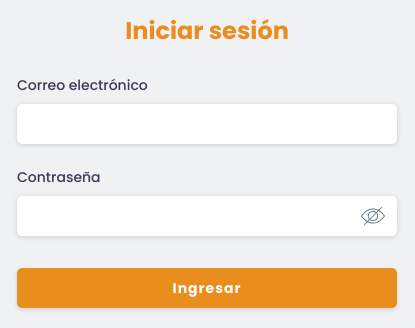
it: Test de formulario de Iniciar Sesion › Ingreso contraseña no valida
The image size is (415, 328).
Type "emailfake@mail.com" into the field named "email" at [207, 124], box left=17, top=104, right=397, bottom=144
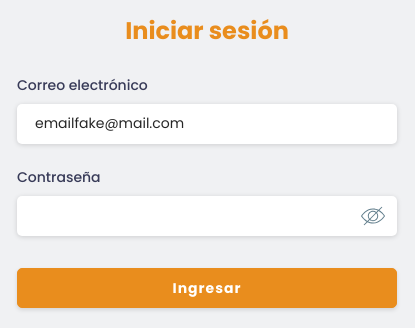
Type "1" into the password field named "password" at [207, 216], box left=17, top=196, right=397, bottom=236
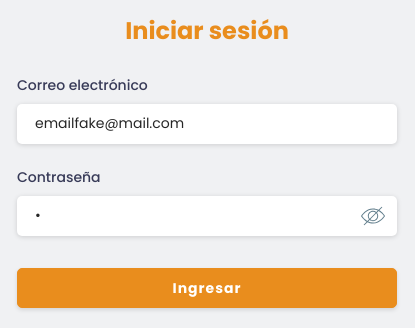
Click the button "Ingresar" at [207, 288], box left=17, top=268, right=397, bottom=308
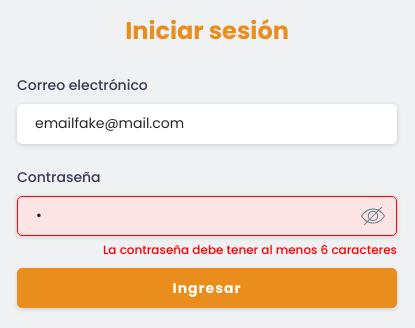
expect the number of password fields with class "error" is 1: met, box left=17, top=196, right=397, bottom=236
